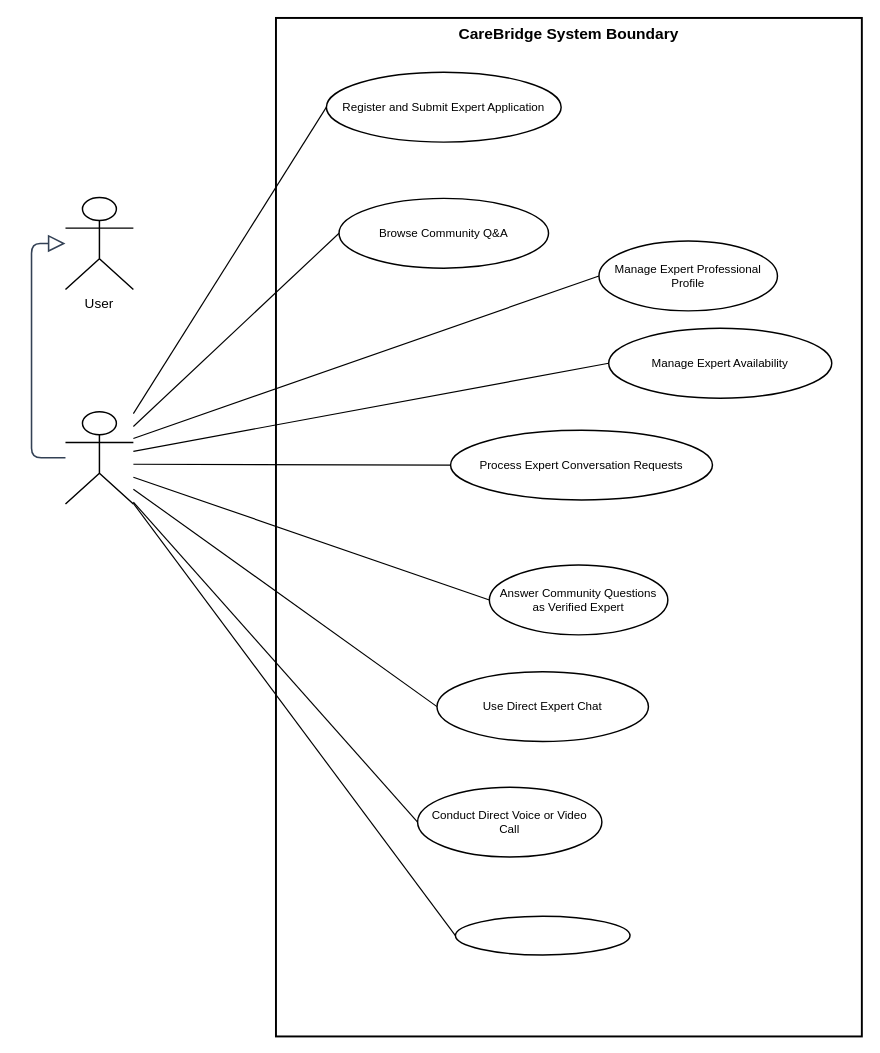
This 880x1053 diagram has some shape labels left out. Here are the shapes that lost their labels. From the top down, the centre of each, then its label:
At (99,457): "Expert".
At (542,935): "Manage Mother Care Plan".
